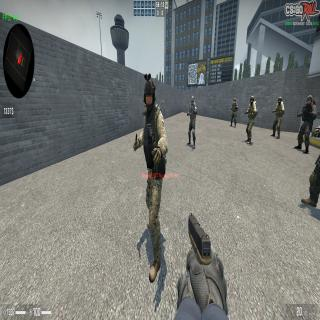CT-Body: (133, 74, 169, 284), (294, 95, 318, 154), (270, 96, 284, 140), (244, 96, 256, 145), (187, 96, 197, 150), (229, 98, 238, 128)
CT-Head: (144, 79, 156, 114), (306, 95, 312, 106), (250, 96, 254, 105), (278, 97, 282, 105), (191, 96, 194, 106), (234, 98, 236, 104)
